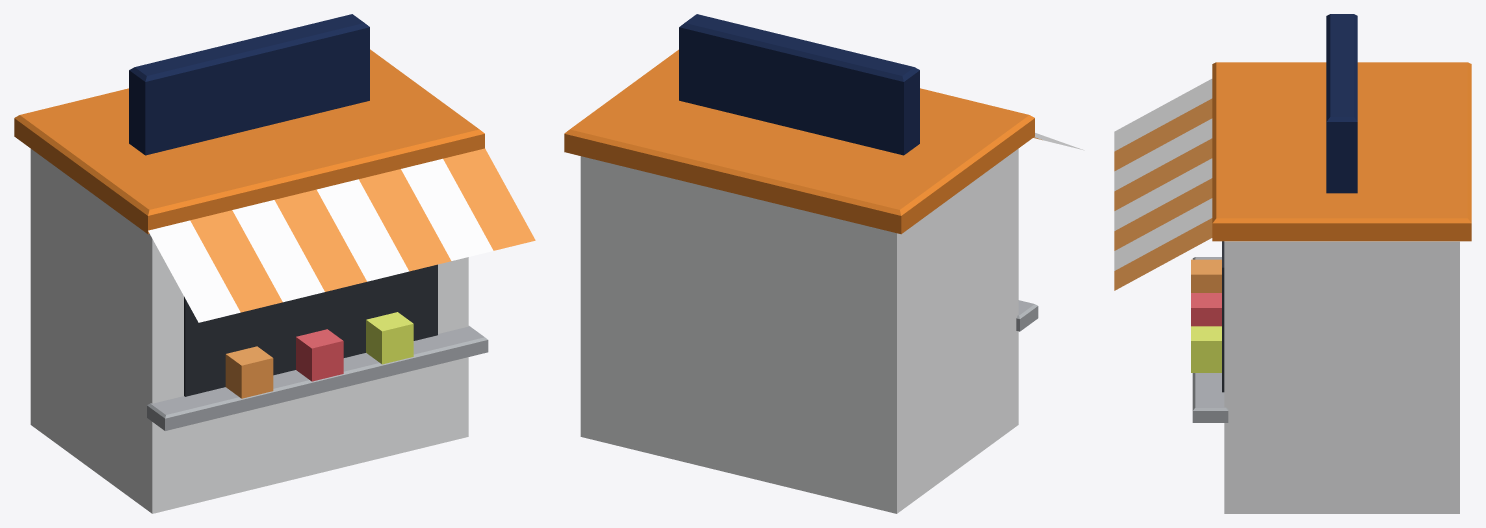
Rendered from Kiosk_drinks.glb.
The picture shows the model from 3 angles, left to right: view 1: azimuth 30°, elevation 25°; view 2: azimuth 150°, elevation 25°; view 3: azimuth 270°, elevation 25°; orthographic projection. The views are drawn at different scales.
Visible parts, largest first — view 1: Kiosk_drinks; view 2: Kiosk_drinks; view 3: Kiosk_drinks.
Boxes of the visible parts, x1,y1,x2,y2 form: Kiosk_drinks: [14, 14, 535, 513]; Kiosk_drinks: [564, 14, 1084, 513]; Kiosk_drinks: [1114, 14, 1471, 513].
Size of the model in its own units: 9.6 by 10.5 by 9.1.
Materials: 1 (1 with a texture image).
